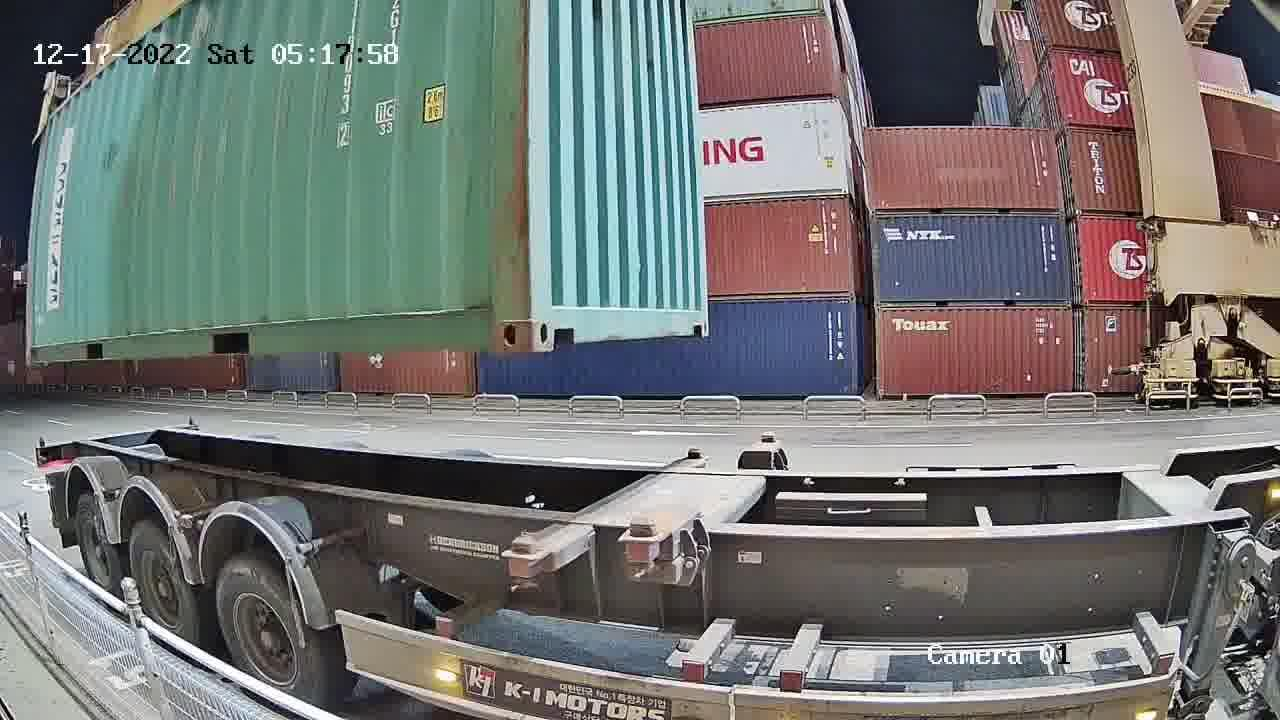Chassis: (510, 449, 713, 576)
Cone: (511, 570, 548, 599)
Container: (527, 280, 712, 359)
Hole_L: (525, 282, 564, 359)
Hole_R: (468, 283, 529, 360), (691, 281, 711, 330)
Tire: (212, 558, 325, 701), (126, 525, 201, 642), (72, 499, 123, 600)
